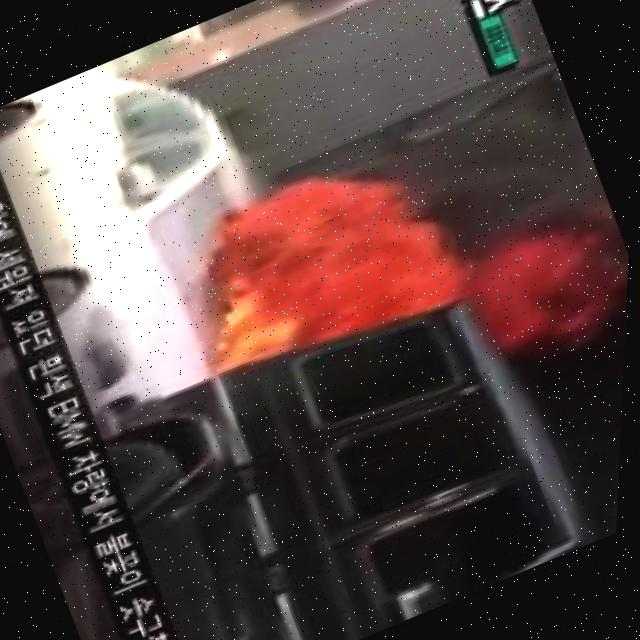Fire: (179, 113, 569, 458)
